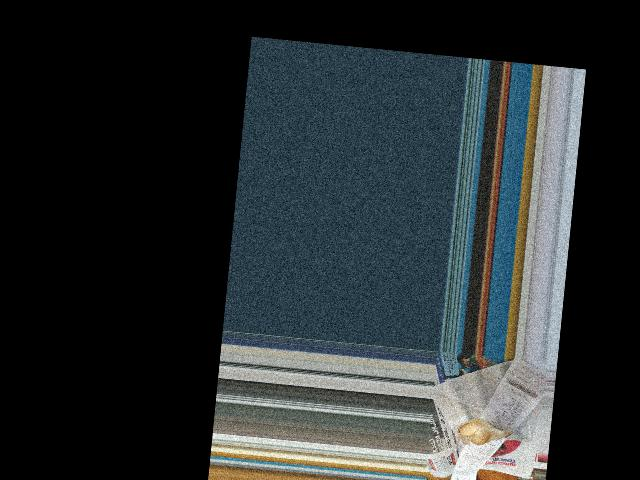onion: (457, 417, 503, 444)
